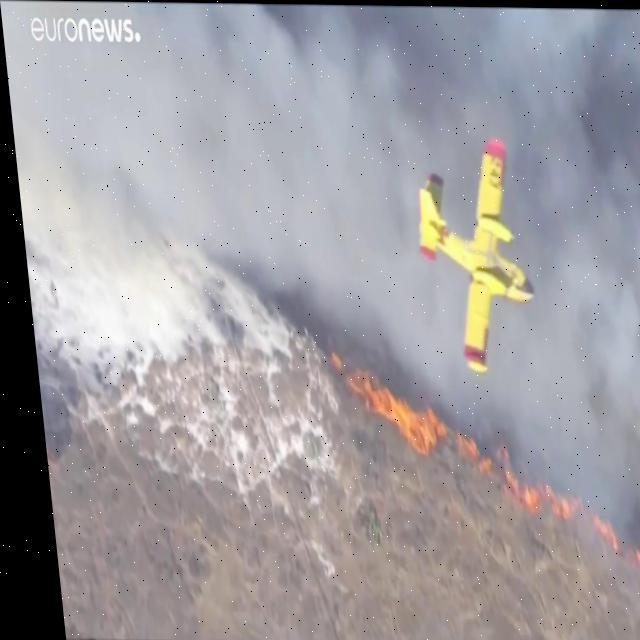Fire: (448, 432, 608, 548), (318, 356, 446, 448), (623, 535, 639, 587)
